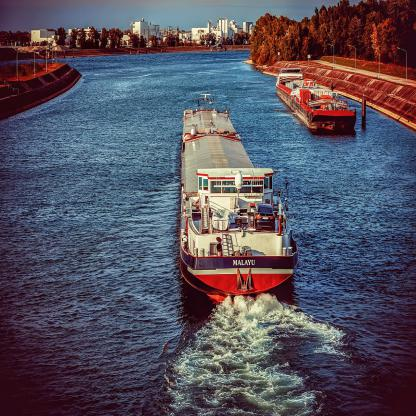Bulk Carrier: (180, 108, 299, 302), (275, 69, 357, 138)
